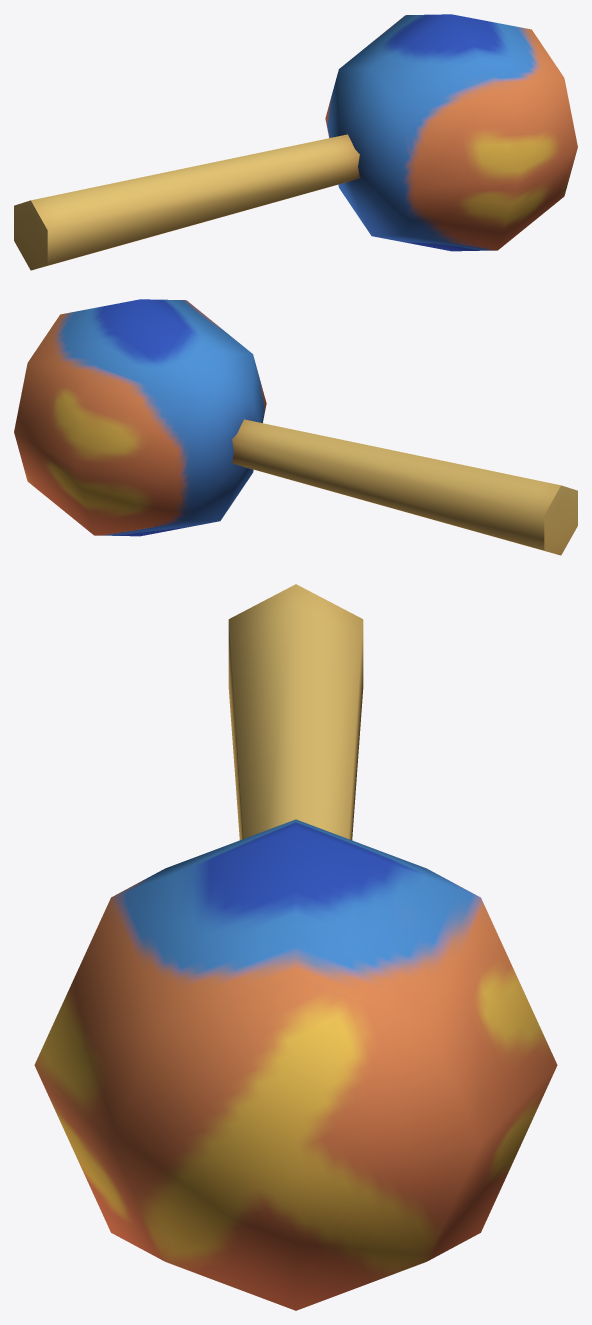
Rendered from candy05.fbx.
3 renders of one model, top to bottom at view 1: azimuth 30°, elevation 25°; view 2: azimuth 150°, elevation 25°; view 3: azimuth 270°, elevation 25°, orthographic. The views are drawn at different scales.
Parts seen in each view (by area): view 1: candy05; view 2: candy05; view 3: candy05.
Part boxes in pixels (x1,y1,x2,y2): candy05: [14, 14, 577, 270]; candy05: [14, 299, 577, 555]; candy05: [34, 584, 557, 1310].
Bounding box in the file's own units: 33.84 × 14.35 × 14.35.
